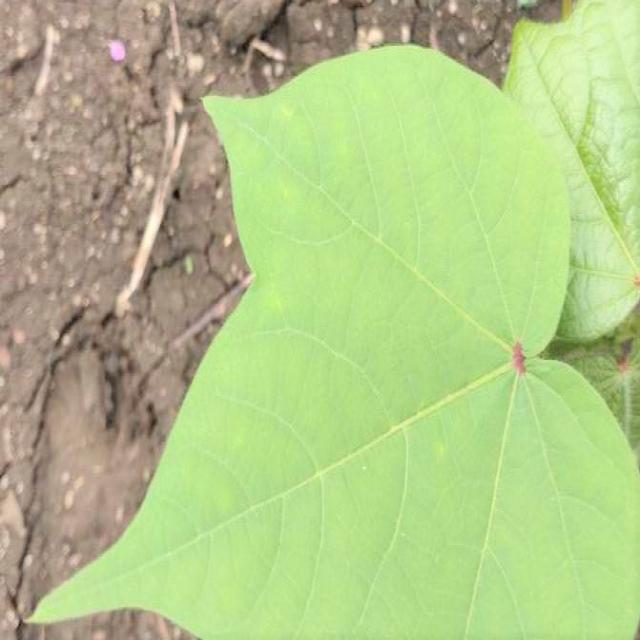Healthy Leaf: (208, 84, 549, 587)
